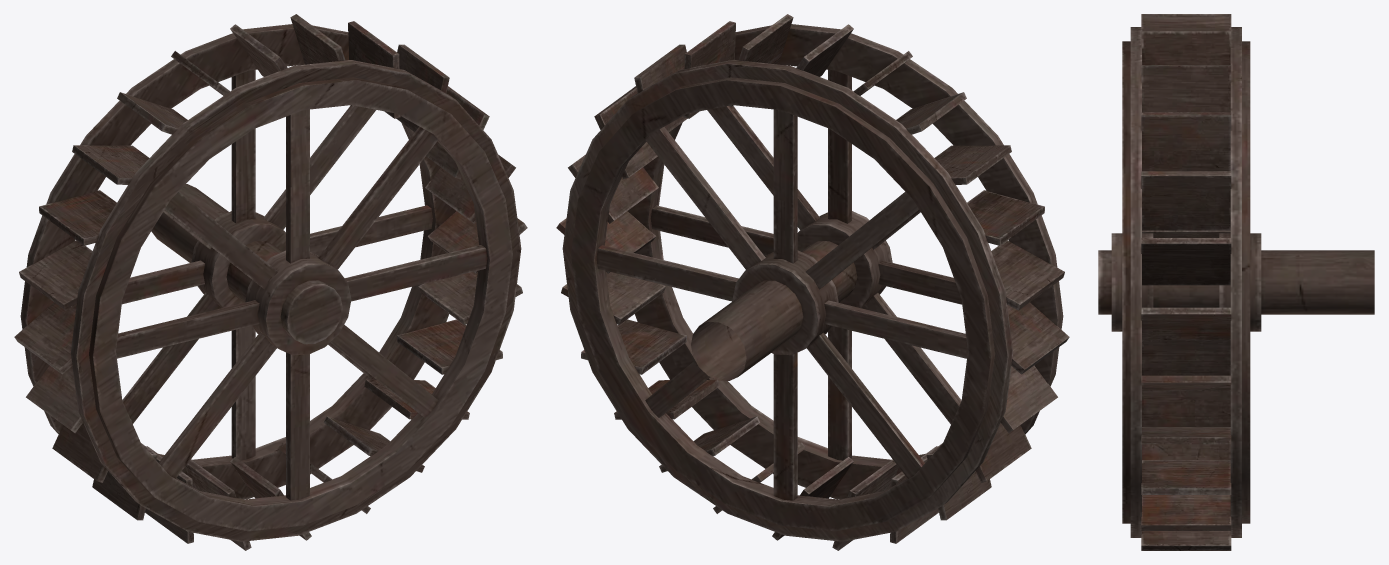
File: PRP_KrebsWheel.glb
3 views of the same model, side by side, from view 1: azimuth 30°, elevation 25°; view 2: azimuth 150°, elevation 25°; view 3: azimuth 270°, elevation 25° (orthographic).
Parts seen in each view (by area): view 1: base_low_water_wheel_txt_0; view 2: base_low_water_wheel_txt_0; view 3: base_low_water_wheel_txt_0.
Boxes of the visible parts, <box> form: base_low_water_wheel_txt_0: <box>14,14,527,550</box>; base_low_water_wheel_txt_0: <box>556,14,1069,550</box>; base_low_water_wheel_txt_0: <box>1098,14,1374,550</box>.
Size of the model in its own units: 7.51 by 7.51 by 3.84.
1 material, 1 textured.
